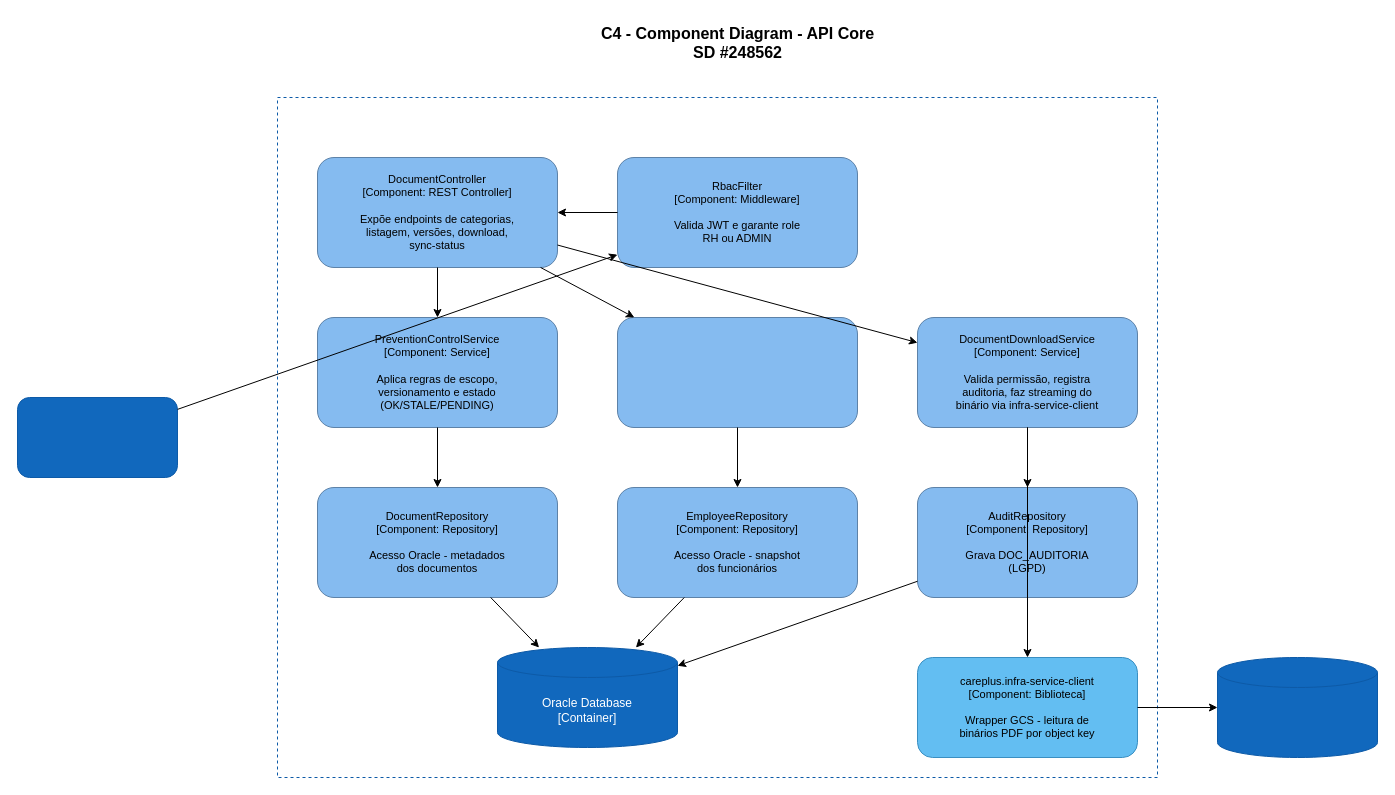
Some shapes in this 1395 by 795 pixel diagram are drawn without their labels. The box of each missing label's shape, as (x1, y1, x2, y2) in pixels:
API BFF [Container]: (16, 396, 178, 478)
API Core: (276, 96, 1158, 778)
EmployeeSearchService [Component: Service] Filtro por nome/CPF com paginação: (616, 316, 858, 428)
GCS Bucket [Container]: (1216, 656, 1378, 758)
